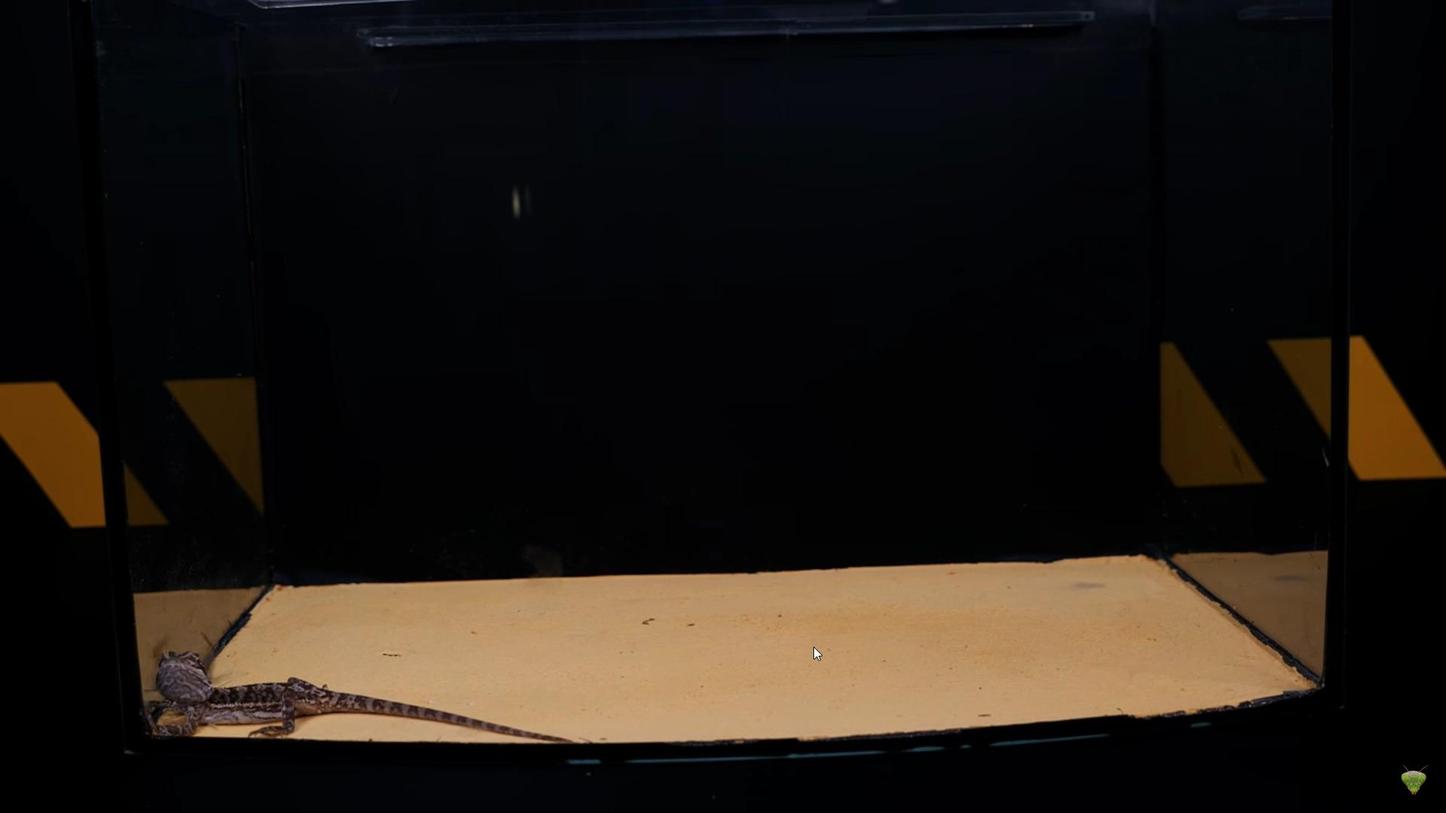lizard: (146, 645, 454, 744)
